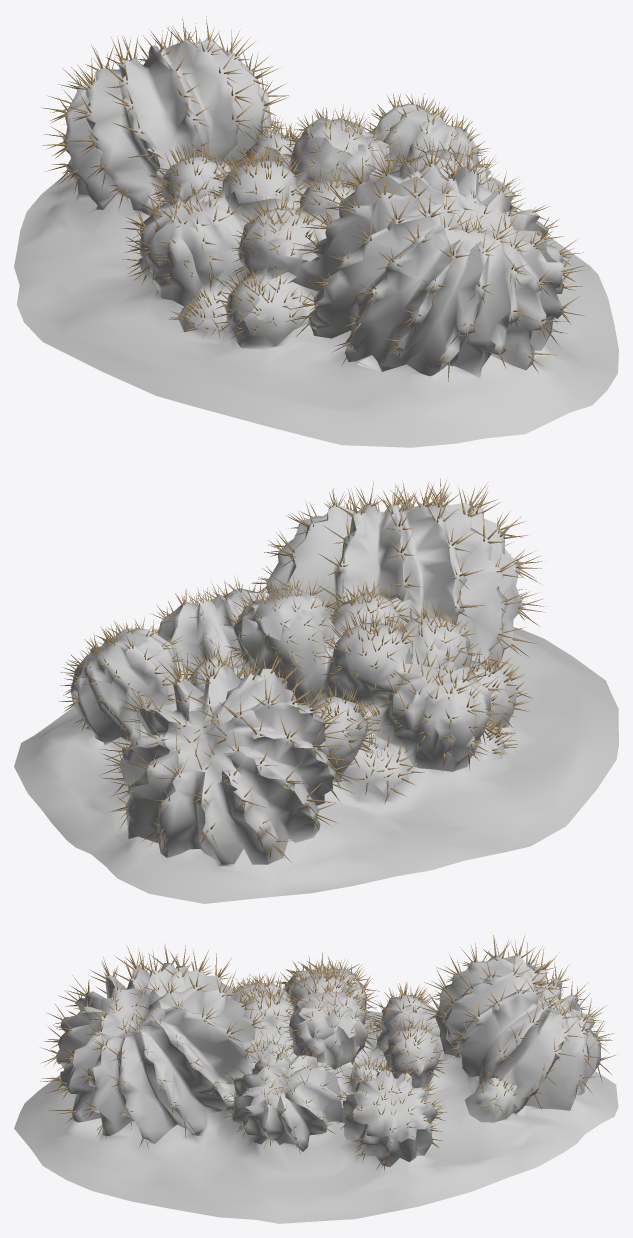
3 renders of one model, top to bottom at view 1: azimuth 30°, elevation 25°; view 2: azimuth 150°, elevation 25°; view 3: azimuth 270°, elevation 25°, orthographic. The views are drawn at different scales.
Parts seen in each view (by area): view 1: lo_bake, kolce_1; view 2: lo_bake, kolce_1; view 3: lo_bake, kolce_1.
Part boxes in pixels (box(x1,y1,x2,y2)): lo_bake: box(14, 39, 618, 447); kolce_1: box(41, 16, 586, 381); lo_bake: box(14, 499, 618, 903); kolce_1: box(59, 478, 546, 862); lo_bake: box(14, 955, 618, 1223); kolce_1: box(40, 935, 615, 1171).
Bounding box in the file's own units: 15.52 × 6.44 × 19.74.
